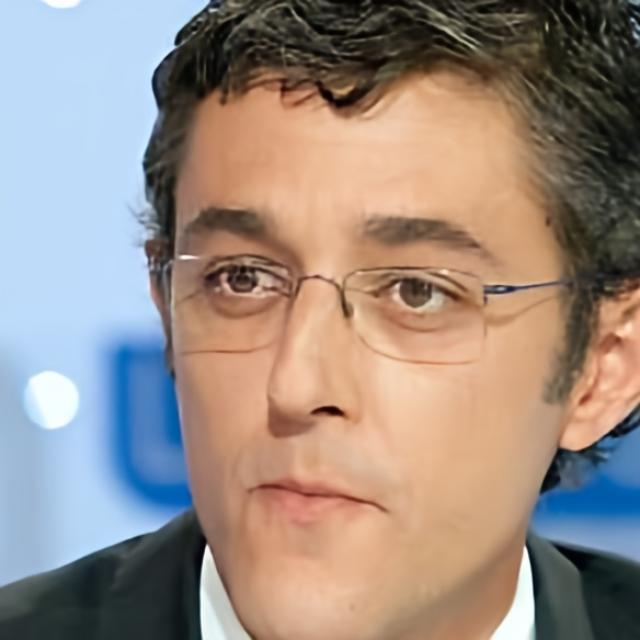neutral: (167, 72, 558, 640)
